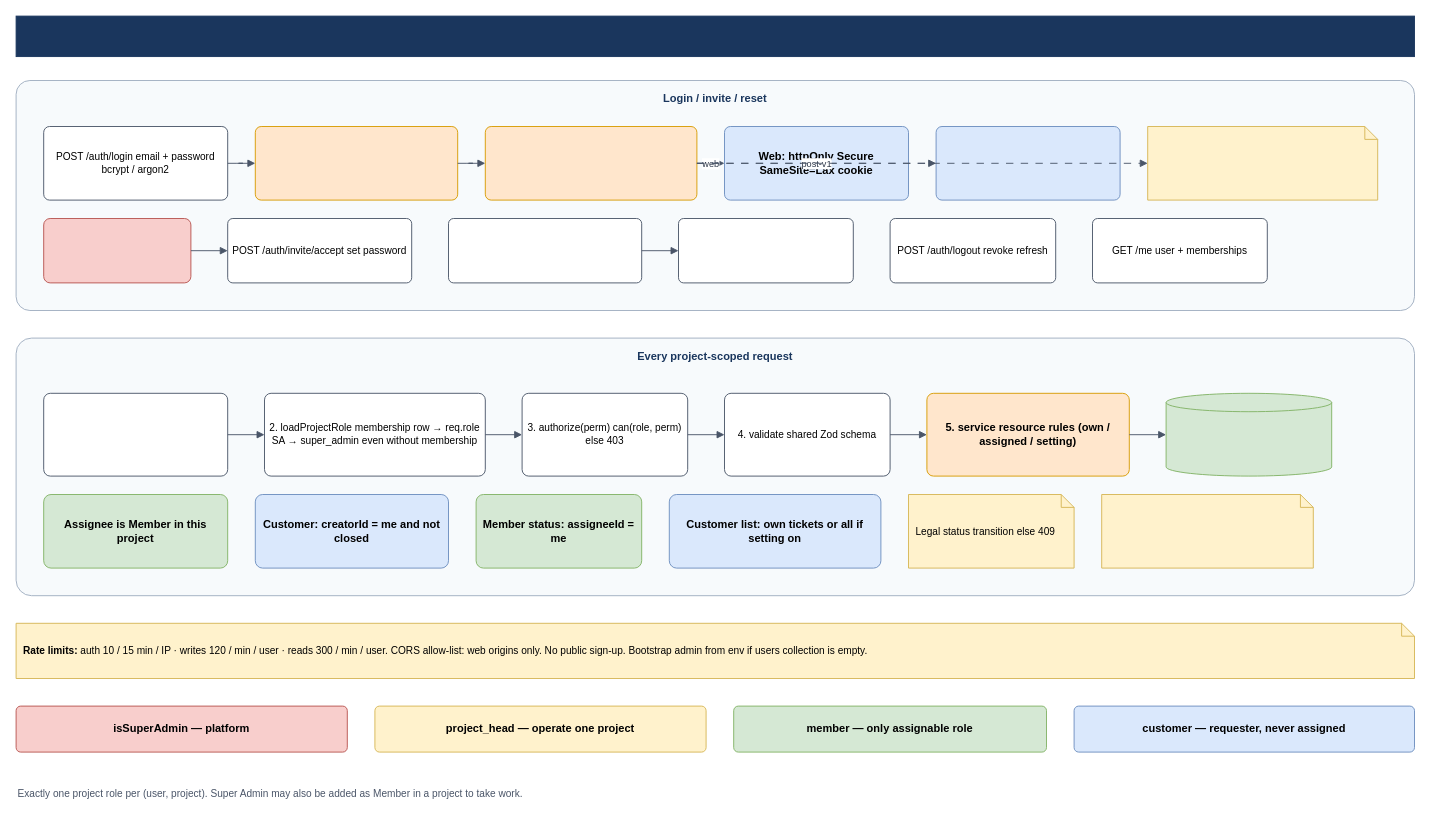
This 1431x833 diagram has some shape labels left out. The box of each missing label's shape, as (x1, y1, x2, y2) in pixels:
1. authenticate verify JWT reject if disabled: (43, 392, 228, 476)
6. Mongoose commit: (1165, 392, 1332, 476)
Access JWT 15 min · { sub, isSuperAdmin }: (254, 126, 458, 200)
Authentication, tokens, and request authorization: (15, 15, 1414, 57)
Mobile later: SecureStore + Bearer: (935, 126, 1120, 200)
POST /auth/forgot-password SMTP, always 202: (448, 218, 642, 283)
POST /auth/reset-password 1h token: (678, 218, 853, 283)
POST /users invite · 72h SMTP: (43, 218, 191, 283)
Read-only project 409 PROJECT_READ_ONLY: (1101, 494, 1313, 568)
Refresh token 14 days · hashed at rest rotated every use: (484, 126, 697, 200)
Reuse of revoked refresh → revoke family: (1147, 126, 1378, 200)
